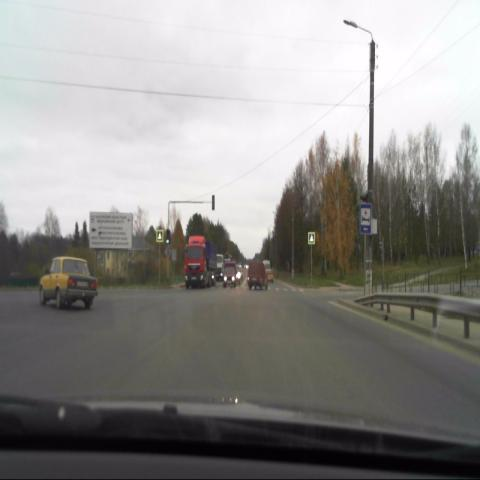7_2: (360, 204, 372, 234)
